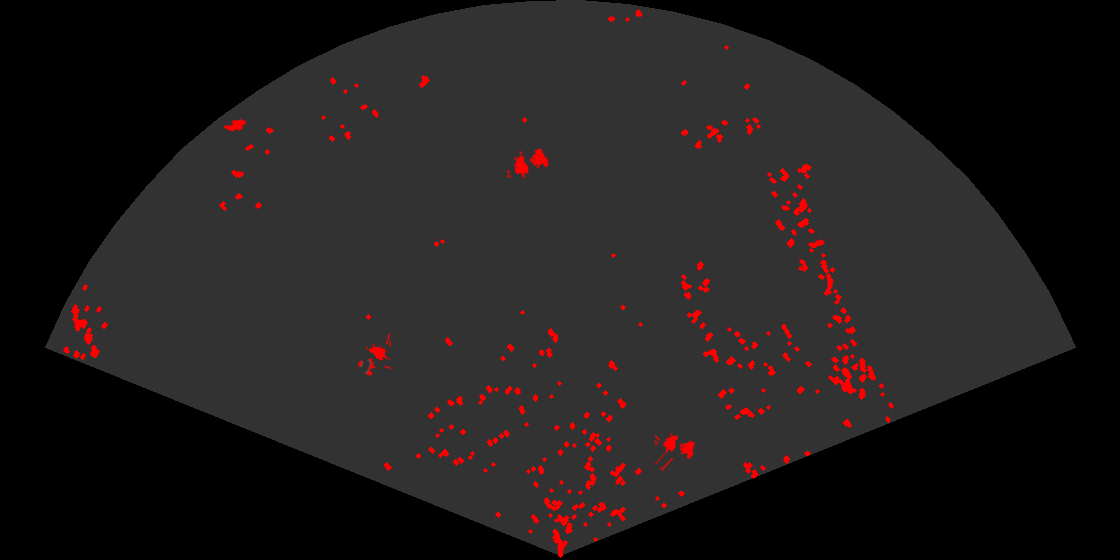AUV: (221, 117, 248, 133)
cage: (655, 432, 697, 470), (356, 334, 391, 378), (507, 146, 551, 178)
